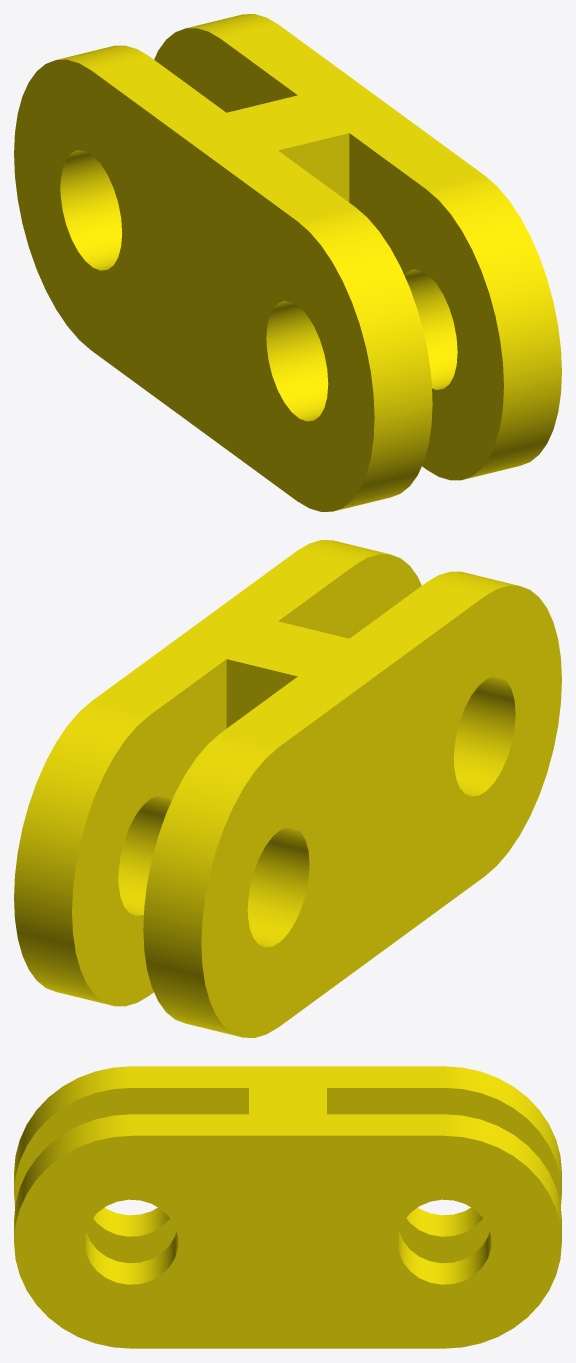
The model's file is modelo_didático_17.glb.
3 views of the same model, one above another, from view 1: azimuth 30°, elevation 25°; view 2: azimuth 150°, elevation 25°; view 3: azimuth 270°, elevation 25° (orthographic). The views are drawn at different scales.
Visible parts, largest first — view 1: Modelo didatico 17.SLDPRT; view 2: Modelo didatico 17.SLDPRT; view 3: Modelo didatico 17.SLDPRT.
Boxes of the visible parts, <box> form: Modelo didatico 17.SLDPRT: <box>14,14,561,511</box>; Modelo didatico 17.SLDPRT: <box>14,540,561,1037</box>; Modelo didatico 17.SLDPRT: <box>14,1066,561,1348</box>.
Size of the model in its own units: 0.021 by 0.03 by 0.07.
